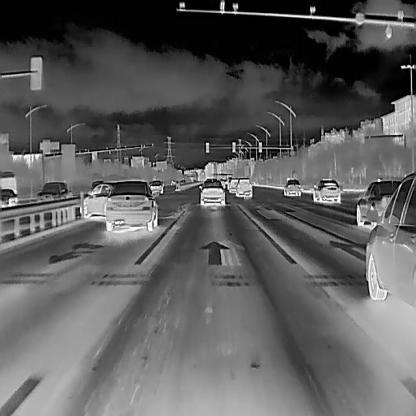car: (364, 169, 416, 310), (103, 177, 158, 232), (355, 177, 402, 228), (78, 181, 118, 217), (36, 180, 71, 208), (312, 177, 341, 206), (198, 177, 226, 206), (0, 187, 18, 211), (235, 177, 252, 199), (283, 177, 301, 197), (148, 178, 163, 194), (228, 177, 241, 193), (177, 176, 186, 186)
